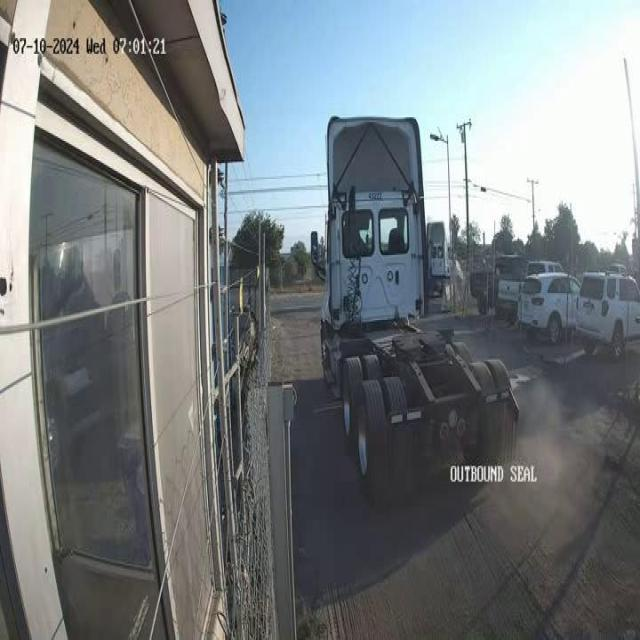BOBTAIL: (309, 113, 520, 506)
